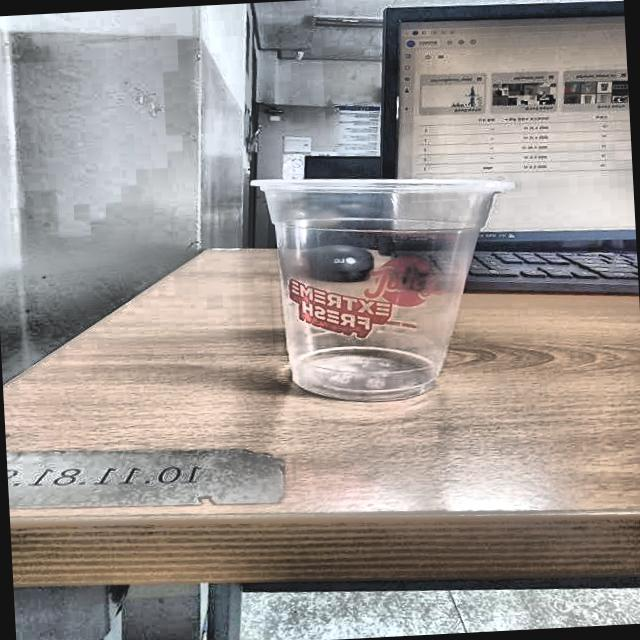plastic cup: (243, 165, 522, 406)
